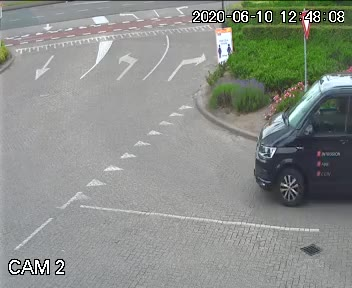car: (249, 65, 352, 226)
